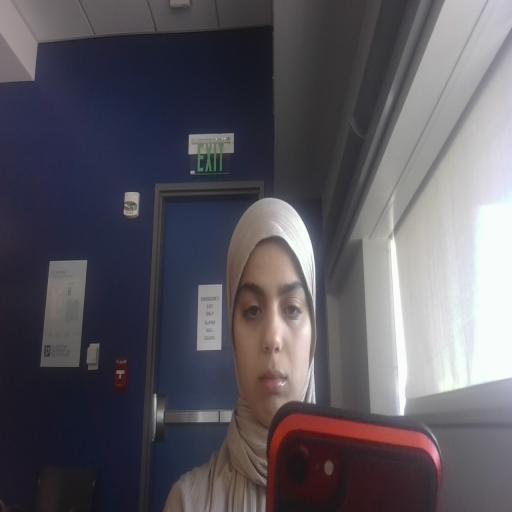phone: (255, 386, 475, 512)
